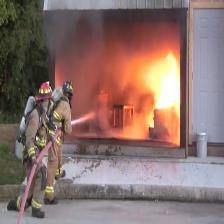fire: (132, 51, 180, 132)
